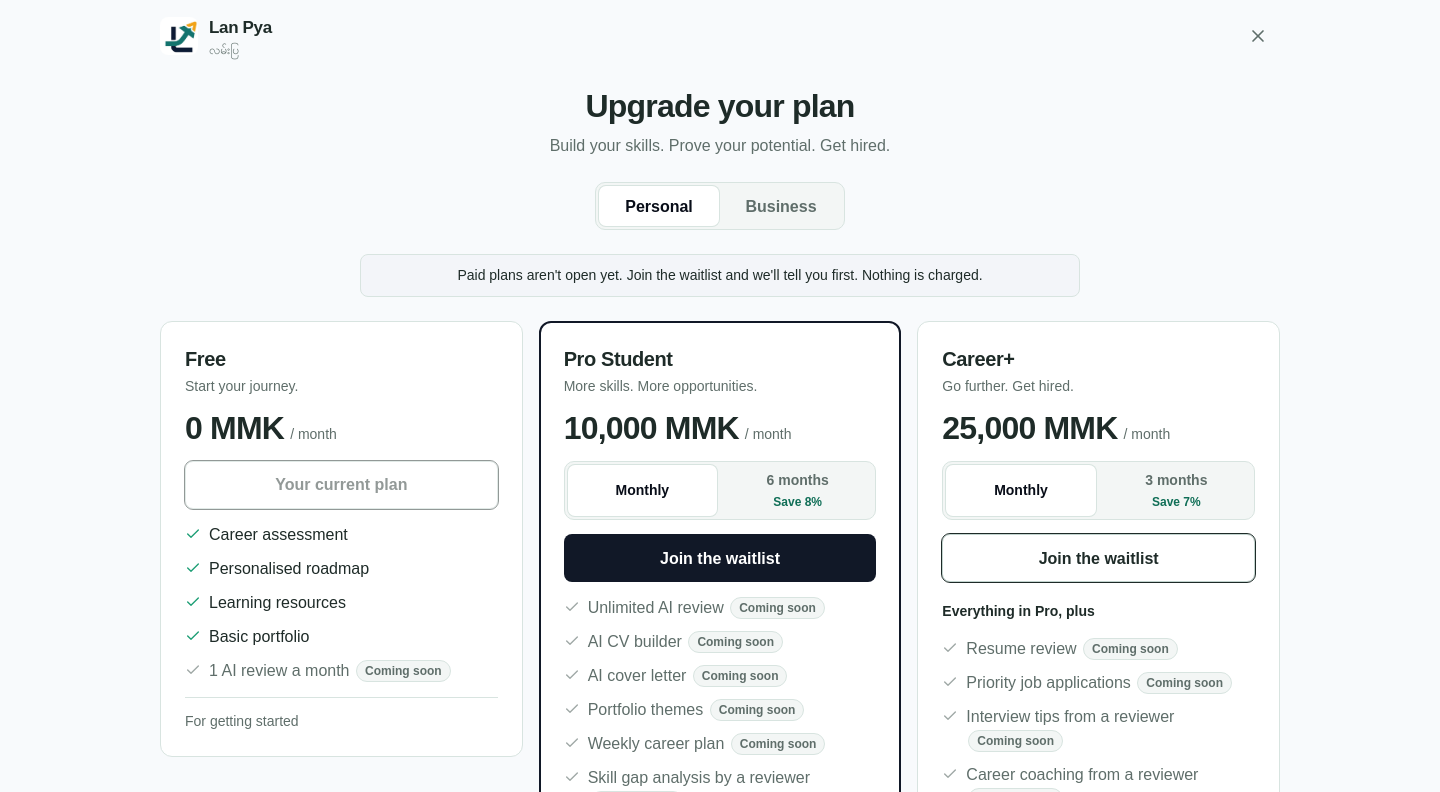
it: PricingView › switches the period, the price and the saving together
expect the text "10,000 MMK" is shown: met, box [564, 411, 739, 447]
Click the radio button labelled "6 months Save 8%".
click(798, 490)  # box [723, 465, 872, 516]
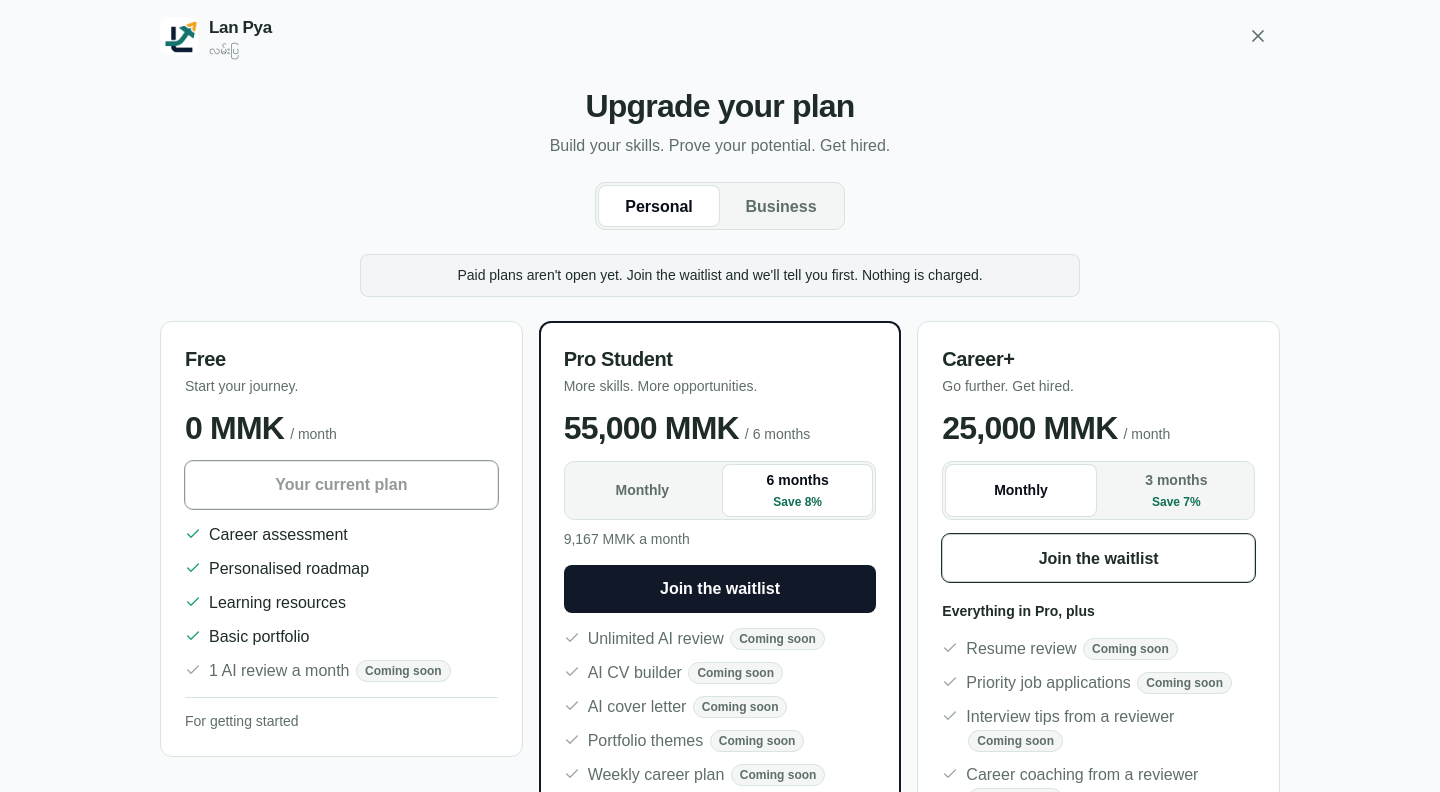
expect the text "Save 8%" is shown: met, box [773, 493, 822, 512]
expect the text "55,000 MMK" is shown: met, box [564, 411, 739, 447]
expect the text "9,167 MMK a month" is shown: met, box [564, 531, 690, 547]
